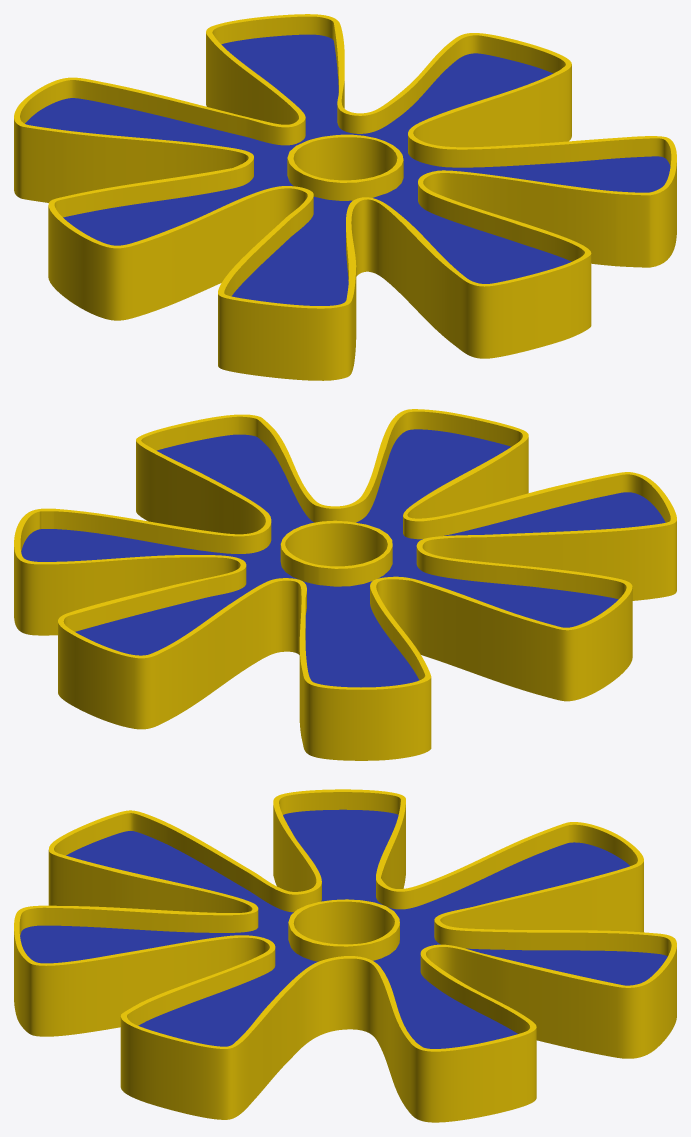
File: blue.glb
The picture shows the model from 3 angles, top to bottom: view 1: azimuth 30°, elevation 25°; view 2: azimuth 150°, elevation 25°; view 3: azimuth 270°, elevation 25°; orthographic projection.
Parts seen in each view (by area): view 1: GOLDFINAL, BLUEFINAL, GOLDFINAL.001; view 2: GOLDFINAL, BLUEFINAL, GOLDFINAL.001; view 3: GOLDFINAL, BLUEFINAL, GOLDFINAL.001.
Boxes of the visible parts, bbox=[...] form: GOLDFINAL: bbox=[14, 14, 676, 380]; BLUEFINAL: bbox=[25, 34, 670, 305]; GOLDFINAL.001: bbox=[287, 134, 403, 200]; GOLDFINAL: bbox=[14, 409, 676, 760]; BLUEFINAL: bbox=[21, 429, 665, 687]; GOLDFINAL.001: bbox=[280, 520, 392, 586]; GOLDFINAL: bbox=[14, 789, 676, 1122]; BLUEFINAL: bbox=[20, 809, 667, 1048]; GOLDFINAL.001: bbox=[288, 899, 399, 961].
Bounding box in the file's own units: 0.4978 × 0.0628 × 0.5319.
